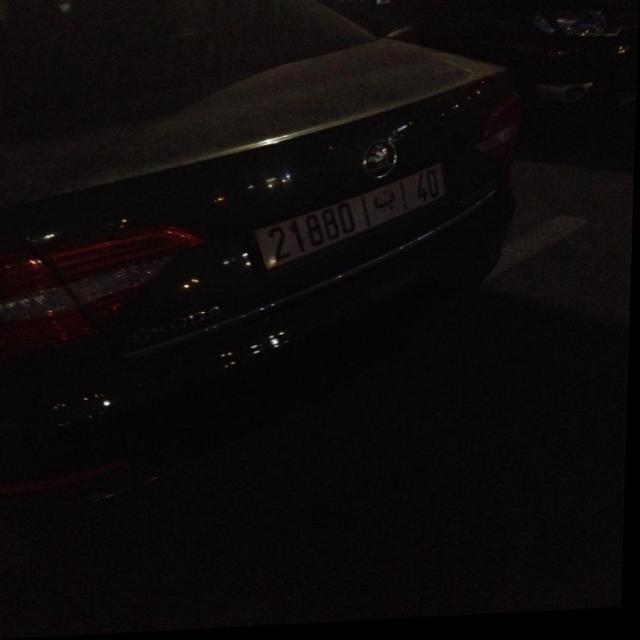License-Plate: (256, 170, 447, 270)
